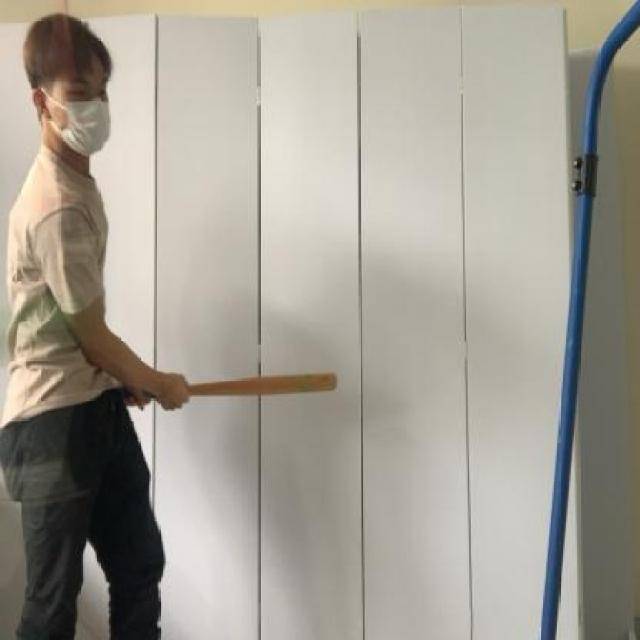baseball: (0, 274, 89, 346)
